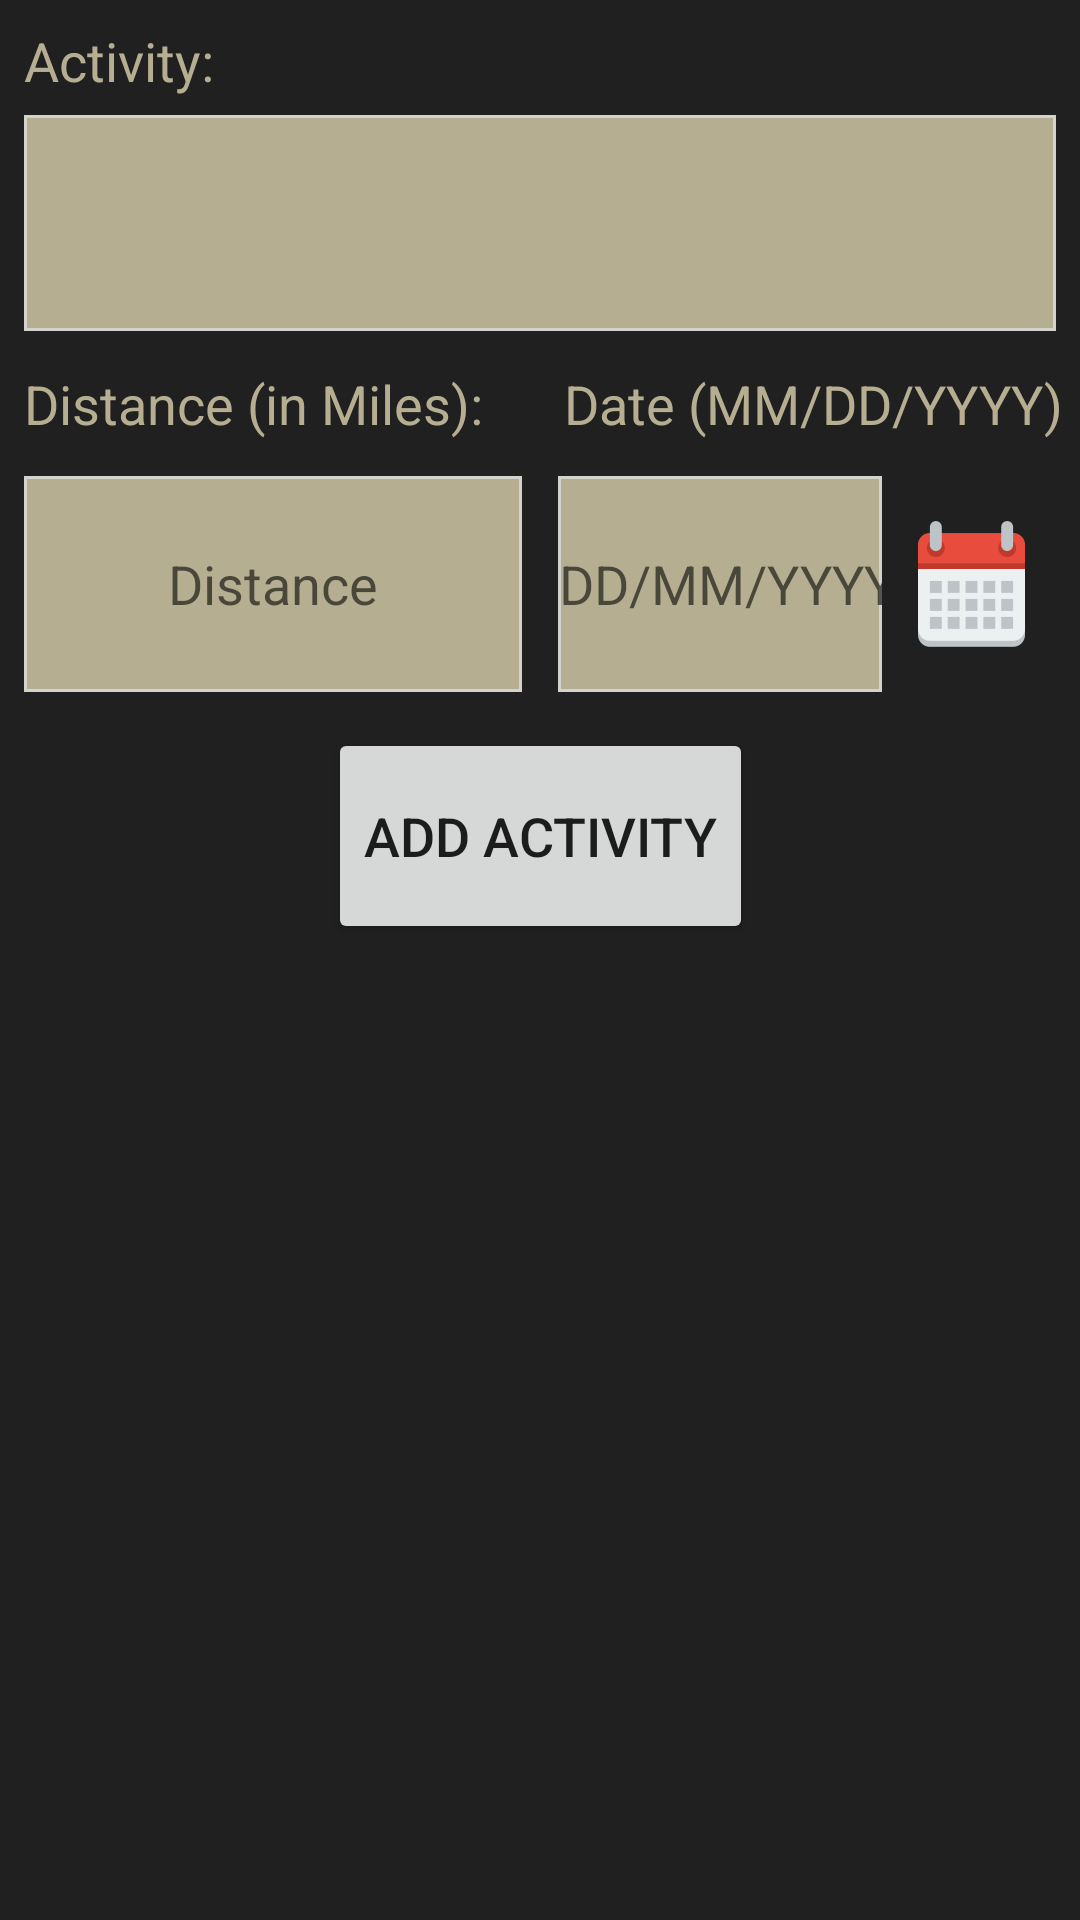

Icon bounding boxes for this 1080px×1920px phone screenshot, format [x1=x1, y1=y1, x2=x2, y2=y2]:
calendar: [x1=918, y1=521, x2=1025, y2=647]
